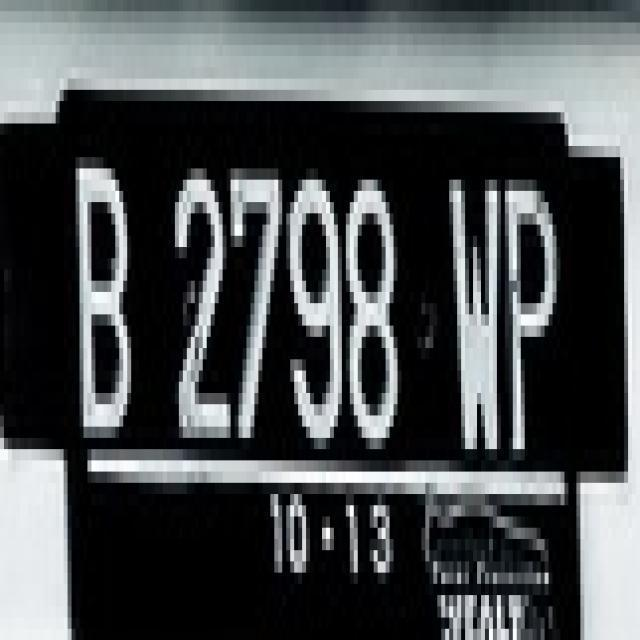LicensePlate: (55, 78, 576, 640)
